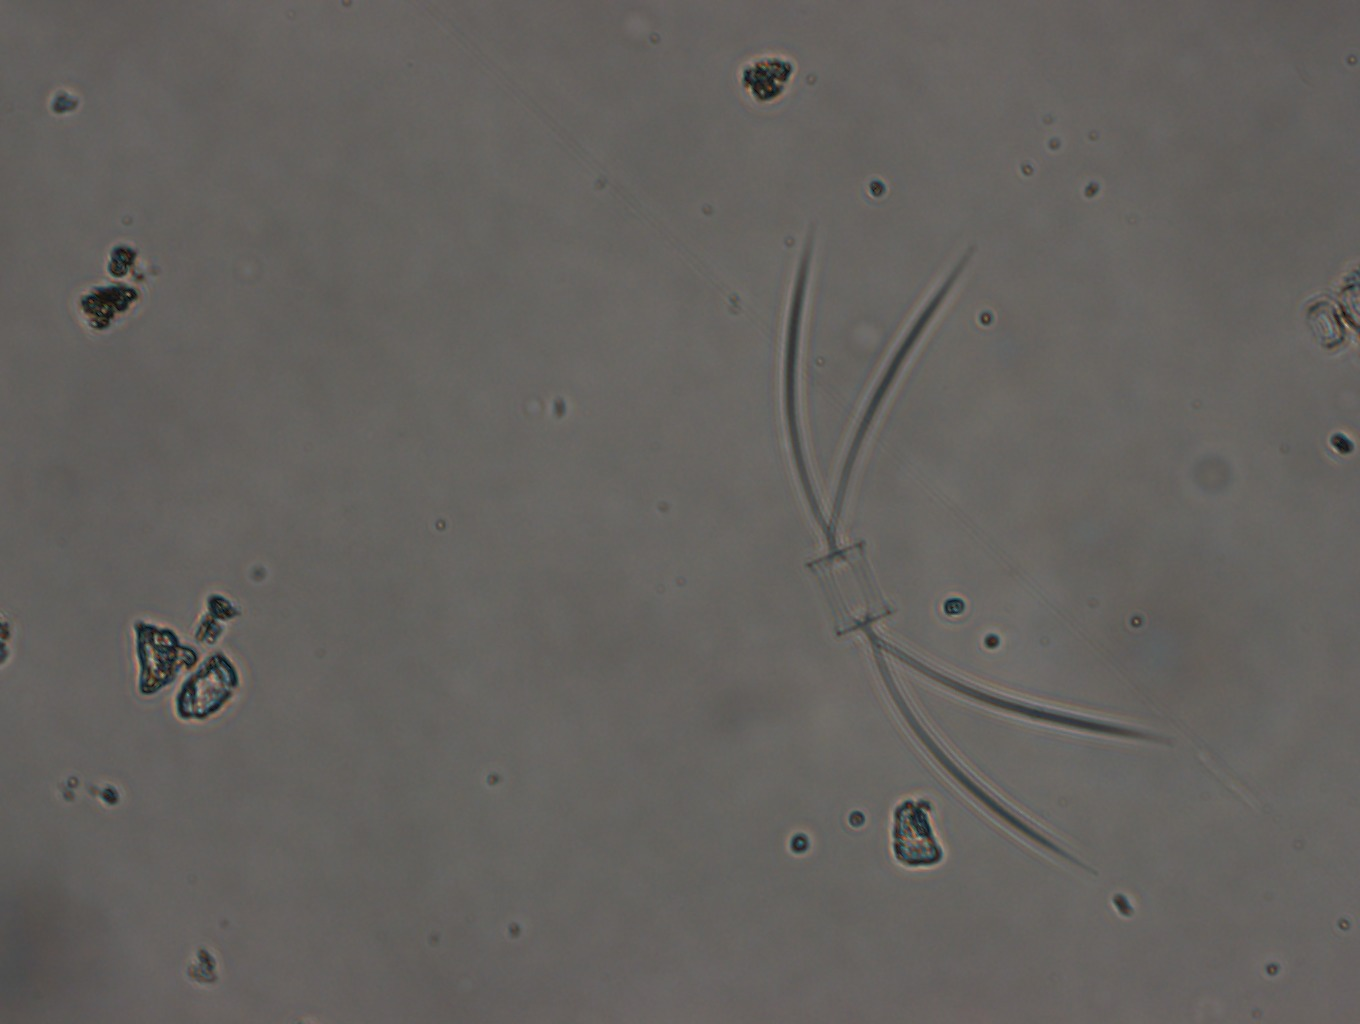chaetoceros: (781, 234, 1175, 878)
